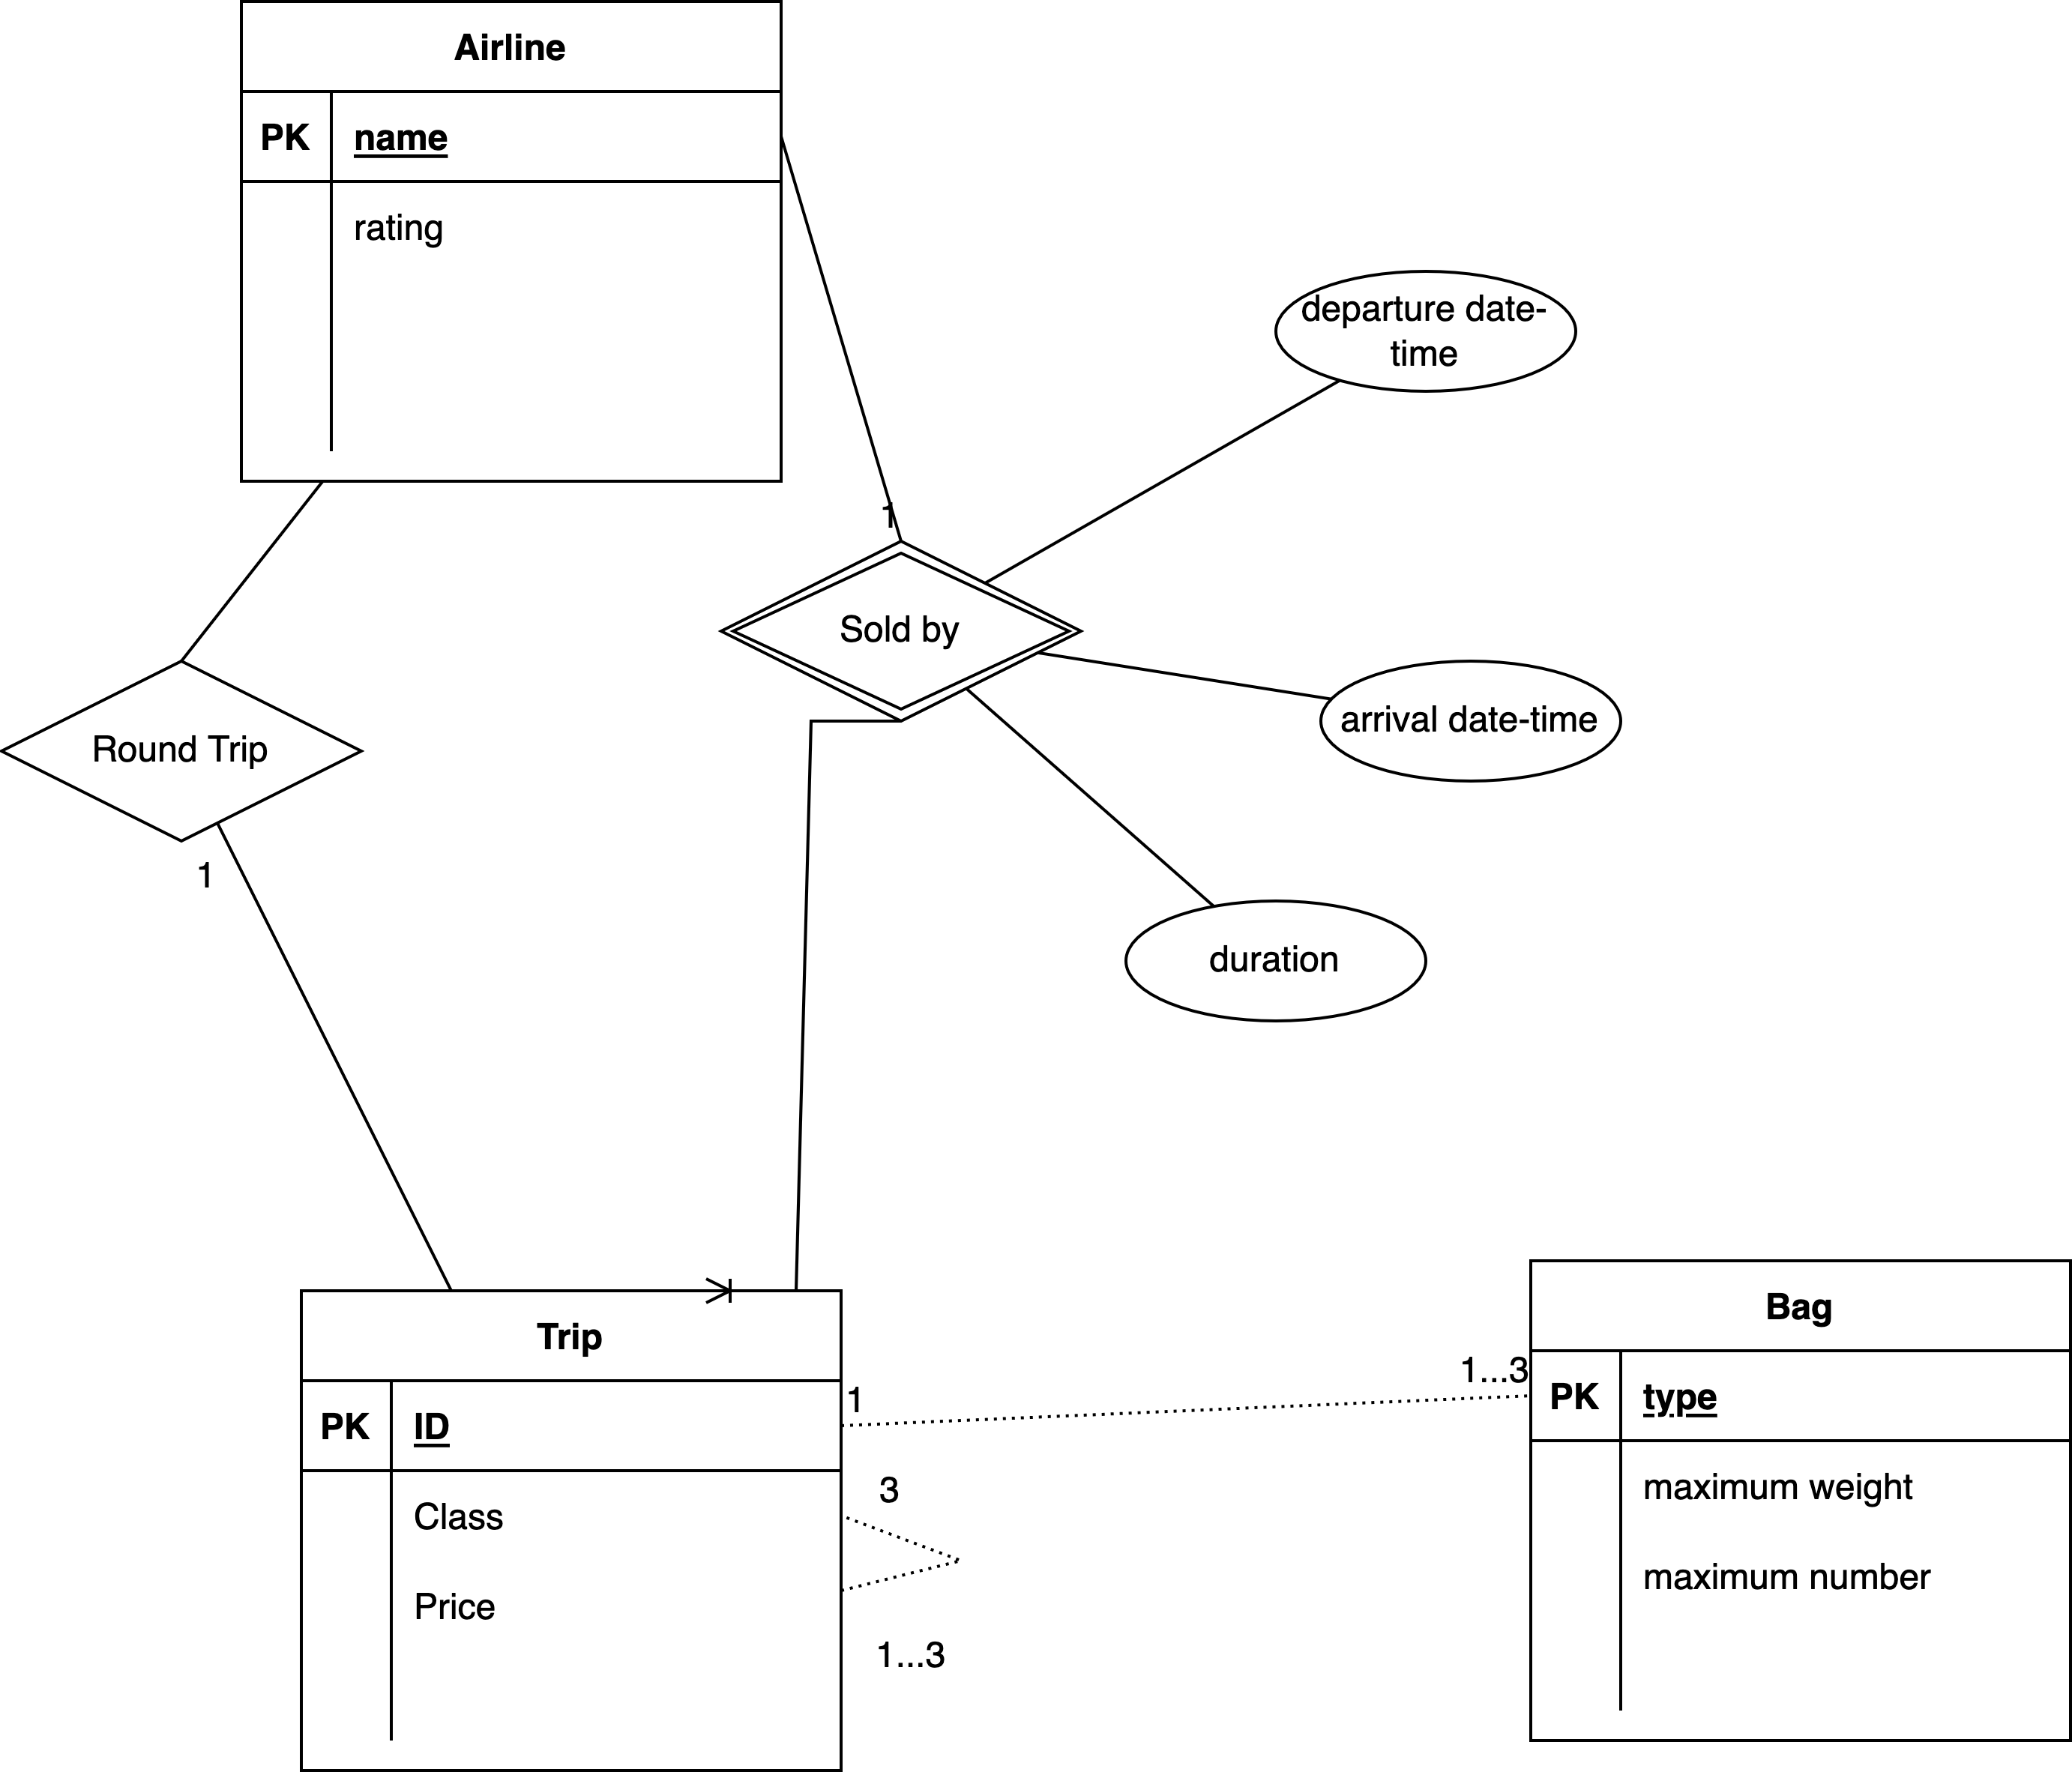entity: (1525, 1259, 2072, 1749), (295, 1289, 849, 1772), (237, 5, 786, 489)
ident_rel: (719, 540, 1083, 719)
many: (698, 1275, 791, 1304)
rel: (2, 661, 364, 846)
rel_attr: (1276, 271, 1578, 396), (1318, 661, 1624, 784), (1123, 900, 1425, 1020)
